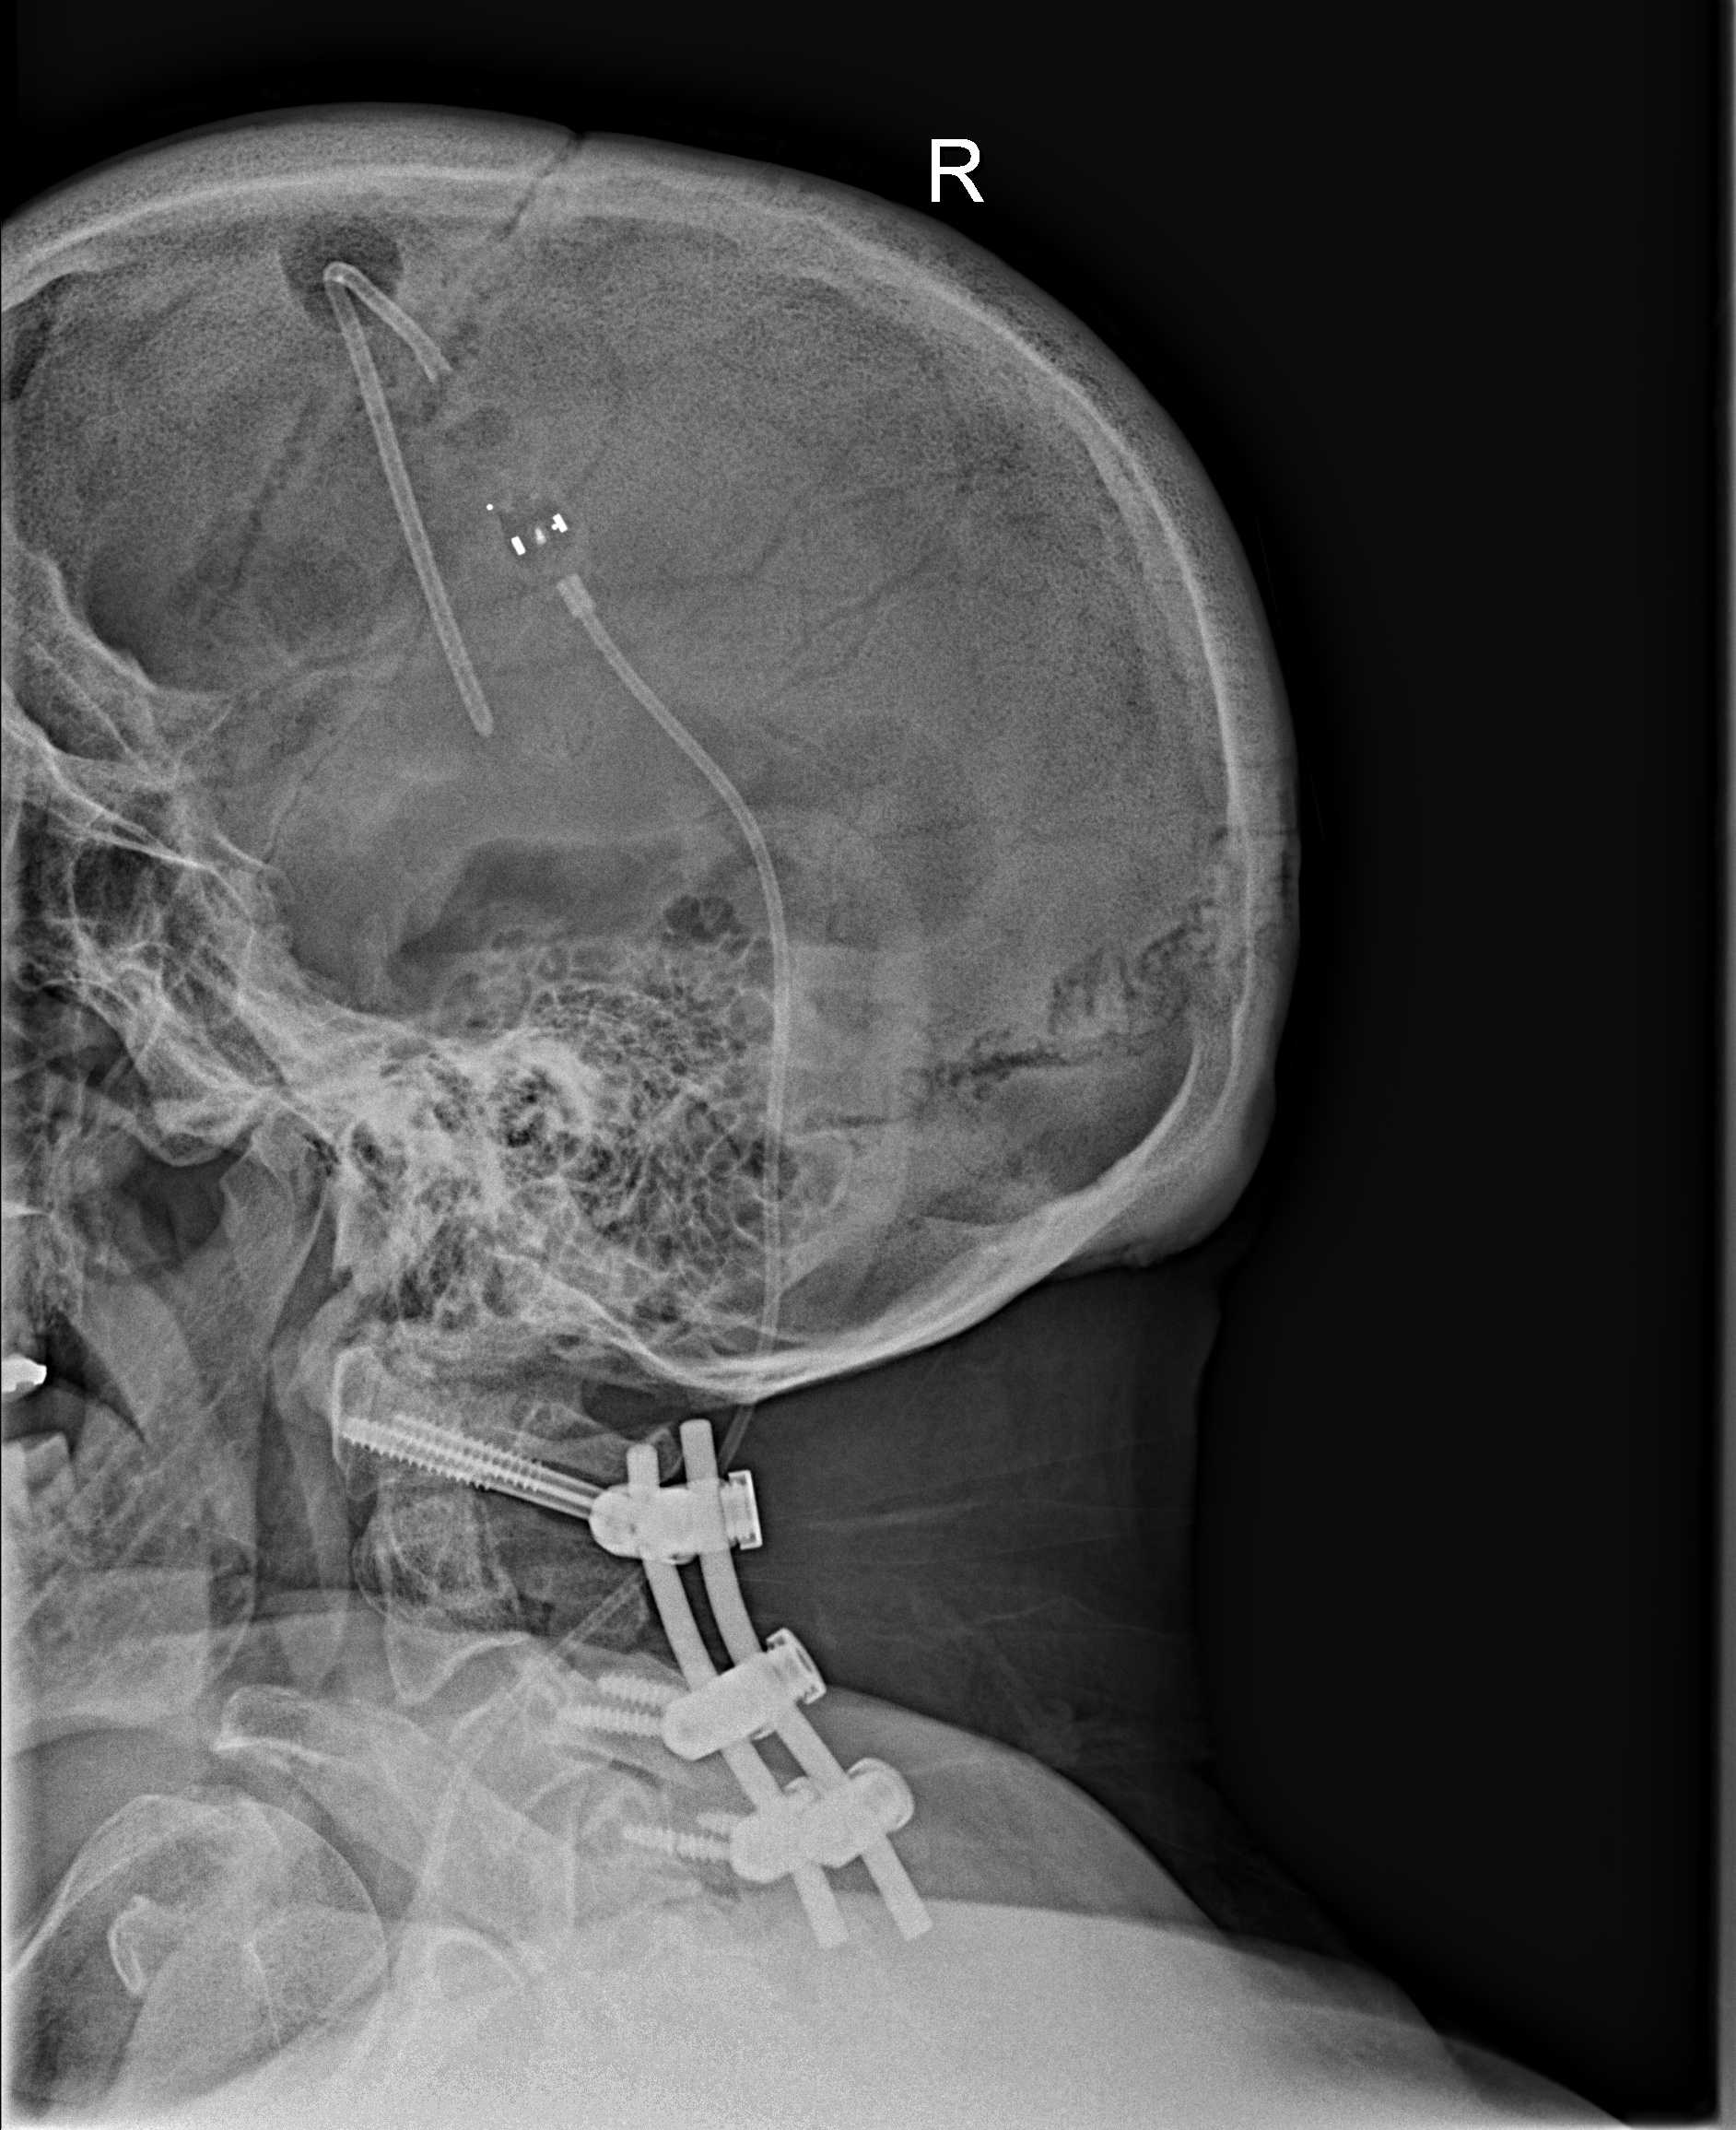Codman Certas: (472, 481, 596, 596)
